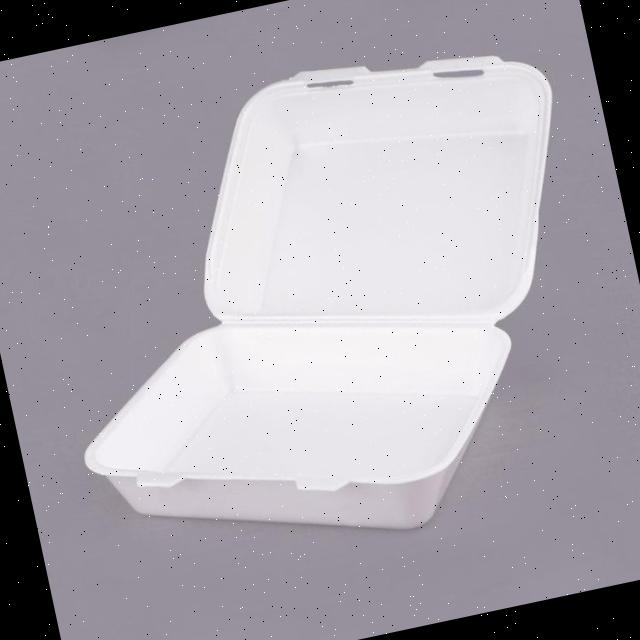styrofoam: (12, 18, 636, 594)
